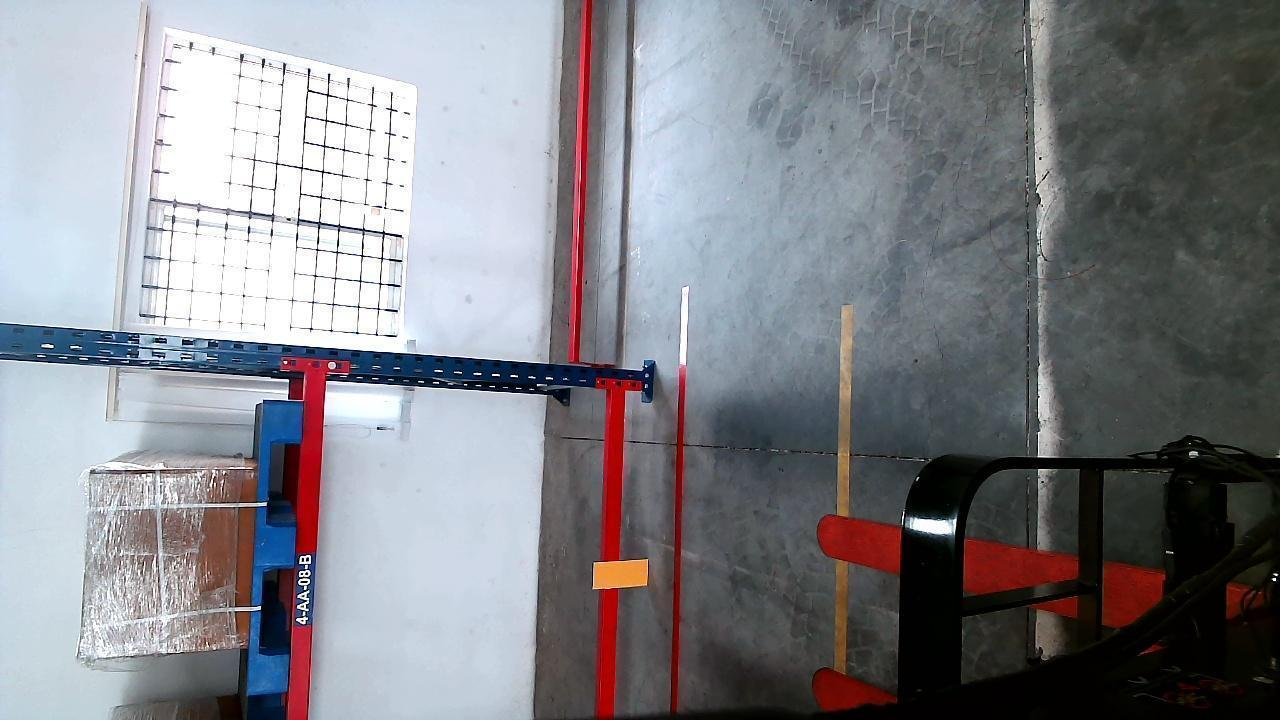red_line: (666, 300, 693, 719)
yellow_line: (834, 303, 853, 674)
